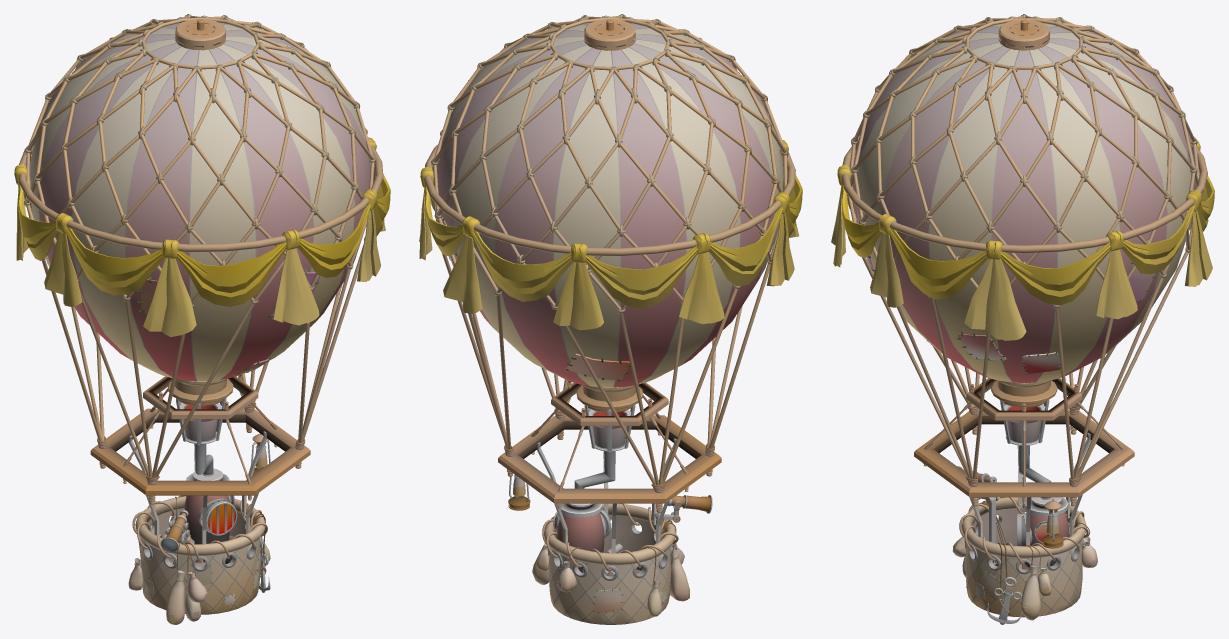
Rendered from hot_air_balloon.glb.
3 renders of one model, left to right at view 1: azimuth 30°, elevation 25°; view 2: azimuth 150°, elevation 25°; view 3: azimuth 270°, elevation 25°, orthographic.
Visible parts, largest first — view 1: Sphere.003, Sphere.061, Plane.011, Plane.018, Cylinder, Cylinder.005, Sphere.001, Circle.008, Cylinder.011, Cylinder.003, Cylinder.001, Cylinder.002 (+10 smaller); view 2: Sphere.003, Sphere.061, Plane.011, Plane.018, Cylinder.005, Cylinder, Sphere.001, Circle.008, Cylinder.011, Cylinder.003, Cylinder.001, Cylinder.008 (+12 smaller); view 3: Sphere.003, Sphere.061, Plane.011, Plane.018, Cylinder, Cylinder.005, Sphere.001, Circle.008, Cylinder.011, Cylinder.003, Cylinder.002, Cylinder.001 (+11 smaller).
Part boxes in pixels (box(x1,y1,x2,y2)): Sphere.003: box(29, 22, 370, 381); Sphere.061: box(25, 15, 375, 504); Plane.011: box(17, 154, 390, 306); Plane.018: box(16, 189, 385, 336); Cylinder: box(90, 408, 310, 495); Cylinder.005: box(140, 508, 260, 614); Sphere.001: box(18, 146, 383, 252); Circle.008: box(23, 14, 376, 306); Cylinder.011: box(135, 496, 265, 556); Cylinder.003: box(143, 376, 258, 419); Cylinder.001: box(175, 19, 225, 50); Cylinder.002: box(168, 378, 233, 406); Sphere.003: box(437, 22, 783, 387); Sphere.061: box(432, 15, 787, 512); Plane.011: box(424, 170, 802, 308); Plane.018: box(419, 180, 799, 330); Cylinder.005: box(548, 514, 671, 624); Cylinder: box(498, 415, 721, 503); Sphere.001: box(424, 145, 795, 256); Circle.008: box(431, 14, 788, 313); Cylinder.011: box(543, 503, 676, 565); Cylinder.003: box(551, 382, 668, 425); Cylinder.001: box(584, 19, 635, 50); Cylinder.008: box(557, 513, 604, 572); Sphere.003: box(853, 23, 1195, 382); Sphere.061: box(848, 15, 1199, 506); Plane.011: box(841, 155, 1214, 305); Plane.018: box(831, 187, 1212, 340); Cylinder: box(914, 410, 1134, 497); Cylinder.005: box(965, 508, 1082, 617); Sphere.001: box(841, 146, 1207, 253); Circle.008: box(846, 14, 1203, 308); Cylinder.011: box(961, 497, 1086, 558); Cylinder.003: box(966, 378, 1082, 420); Cylinder.002: box(991, 380, 1057, 407); Cylinder.001: box(998, 19, 1049, 50).
Bounding box in the file's own units: 10.02 × 16.79 × 10.09.
